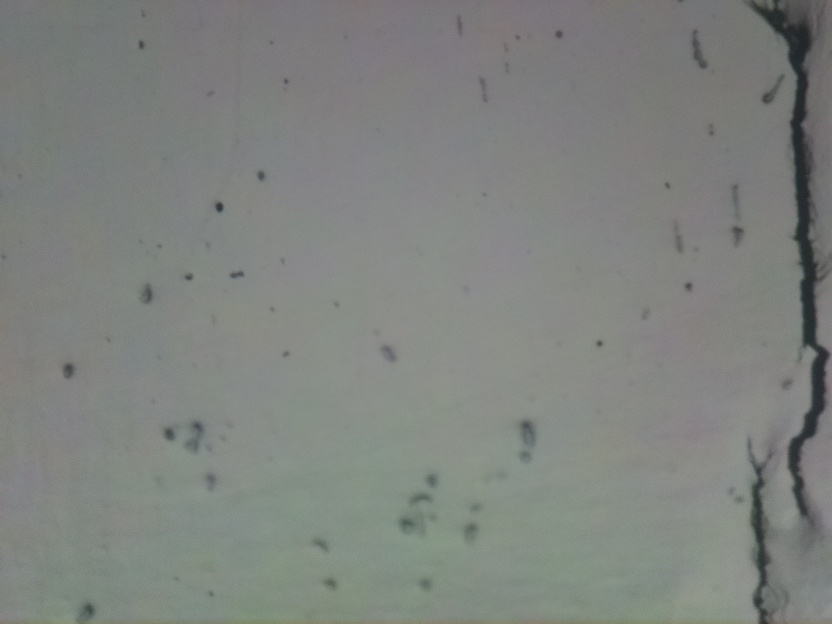crack: (746, 0, 828, 533), (745, 436, 782, 624)
